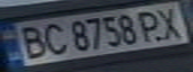5: (103, 12, 124, 47)
7: (84, 15, 106, 51)
8: (115, 11, 142, 45), (66, 17, 90, 53)
B: (12, 22, 51, 60)
C: (36, 20, 69, 56)
P: (133, 8, 169, 43)
X: (151, 4, 190, 40)
